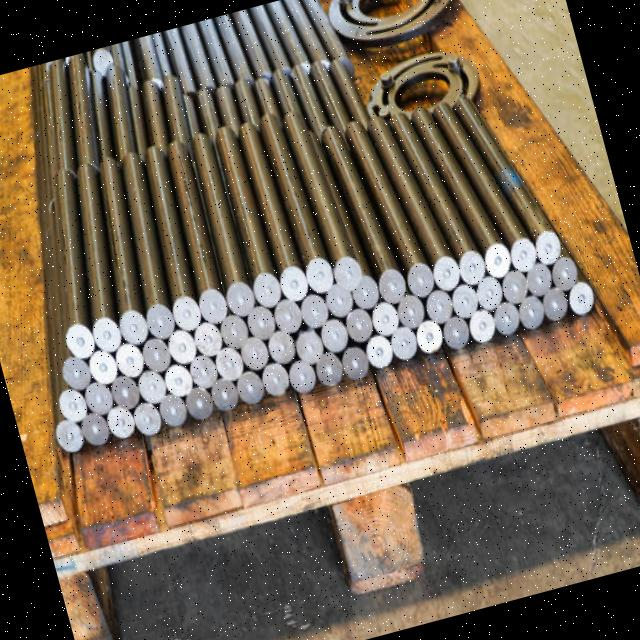Wooden-Pallets: (49, 360, 640, 640)
